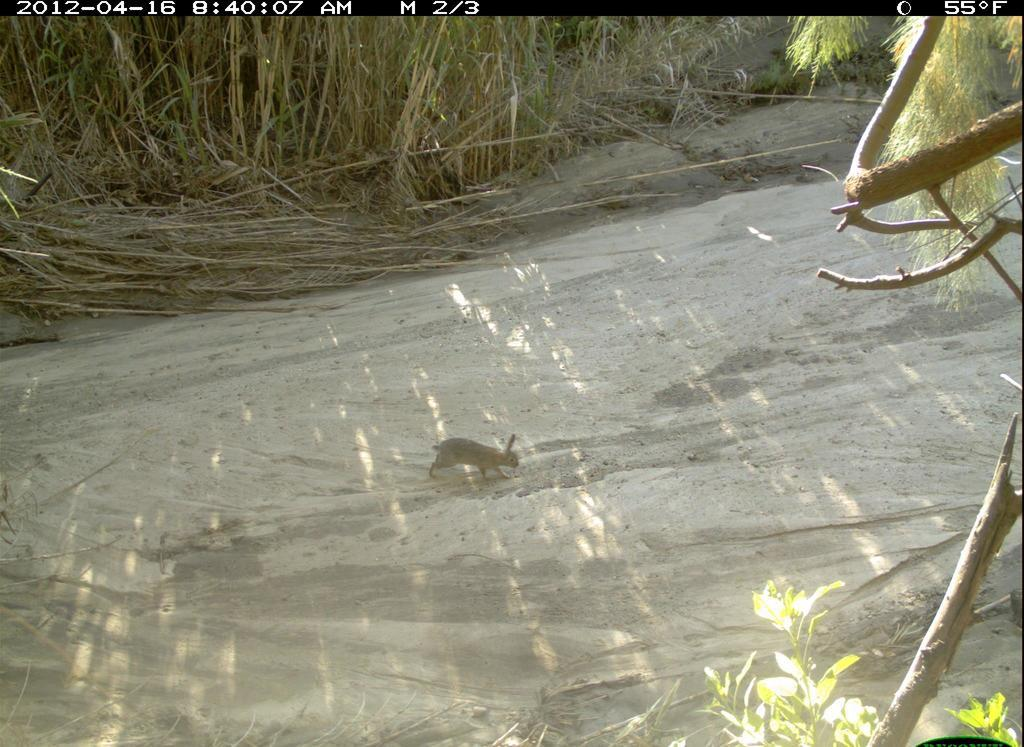rabbit: (419, 422, 543, 497)
